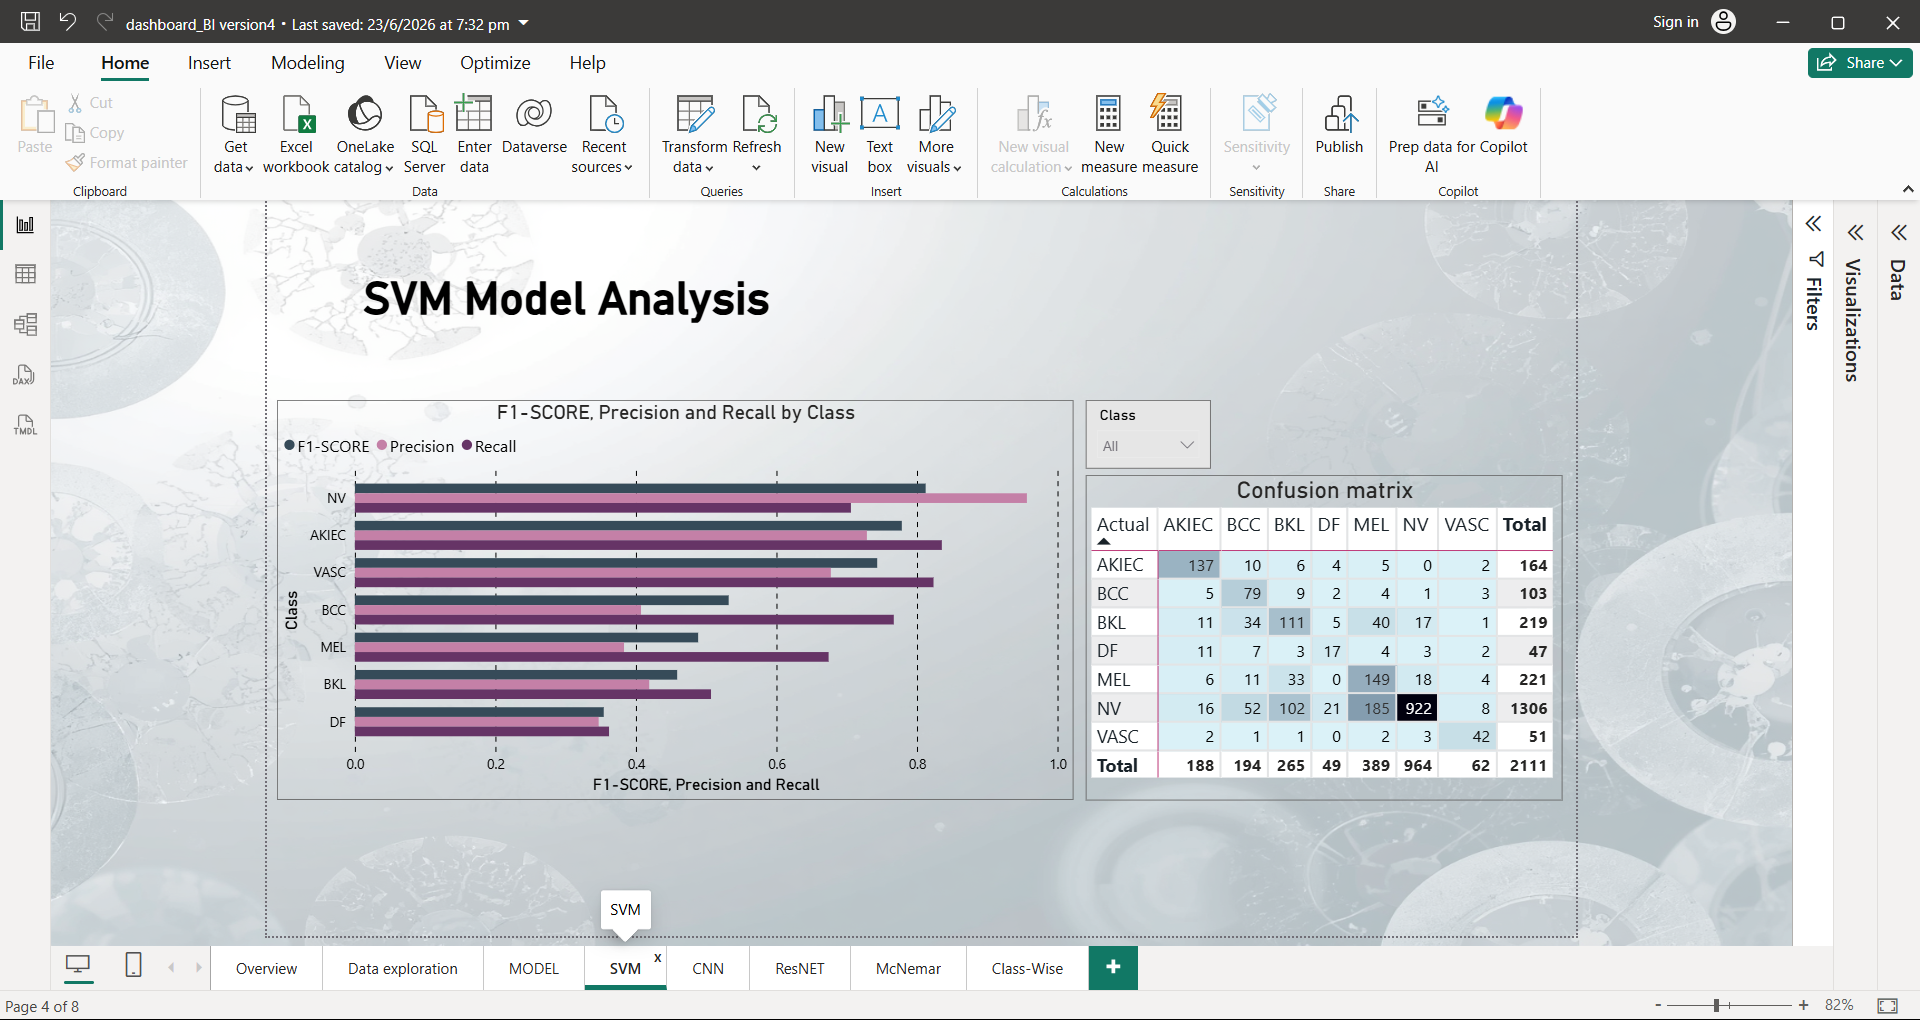

This screenshot's page, from the dashboard's own definition file:
{"tool":"powerbi","page":{"name":"SVM","canvas":[1280,720],"ordinal":3},"visuals":[{"type":"clusteredBarChart","fields":{"Category":["combined_classification_metrics.Class"],"Y":["Sum(combined_classification_metrics.svm_f1)","Sum(combined_classification_metrics.svm_precision)","Sum(combined_classification_metrics.svm_recall)"]},"box":[9.8,195.7,778.9,391.3],"z":0},{"type":"pivotTable","title":"Confusion matrix","fields":{"Rows":["combined_confusion_matrix.Actual"],"Columns":["combined_confusion_matrix.Predicted"],"Values":["Sum(combined_confusion_matrix.svm_count)"]},"box":[801.4,269,466.6,318.4],"z":1000},{"type":"textbox","title":"SVM  Model Analysis","box":[89.3,69.7,642,83.2],"z":2000},{"type":"slicer","fields":{"Values":["combined_classification_metrics.Class"]},"box":[801,195.7,122.3,67.3],"z":3000}]}

Visuals, with their boxes on the page's 1280x720 design canvas (x1, y1, x2, y2). These are canvas units, not pixel positions in the 1920x1020 screenshot, which may show the page scaled, cropped or inside an application window:
clusteredBarChart - combined_classification_metrics.Class x Sum(combined_classification_metrics.svm_f1): crop(10, 196, 789, 587)
"Confusion matrix" pivotTable: crop(801, 269, 1268, 587)
"SVM  Model Analysis" textbox: crop(89, 70, 731, 153)
slicer - combined_classification_metrics.Class: crop(801, 196, 923, 263)
